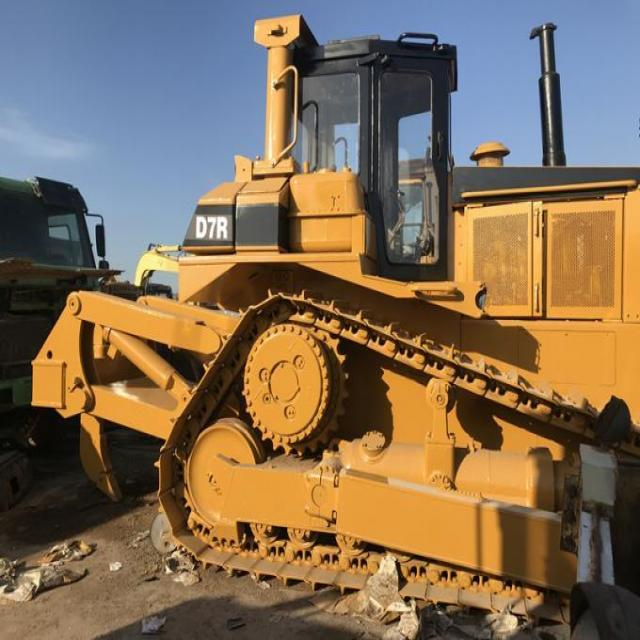Bulldozer: (18, 1, 634, 620)
